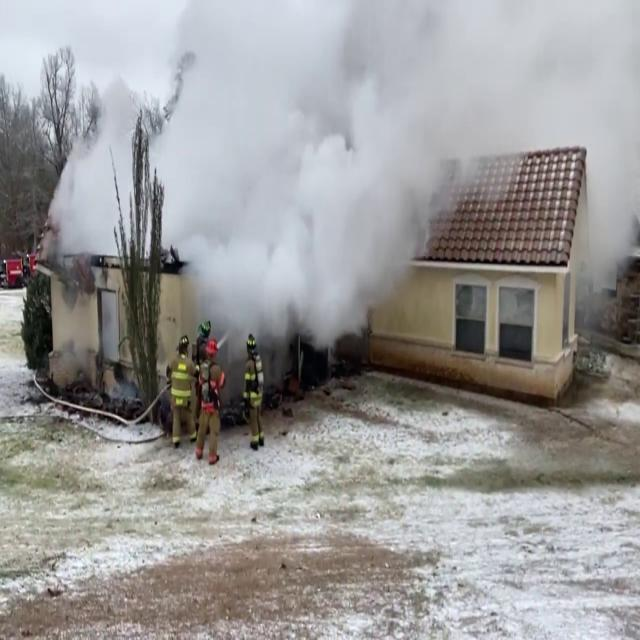Smoke: (32, 0, 639, 300)
